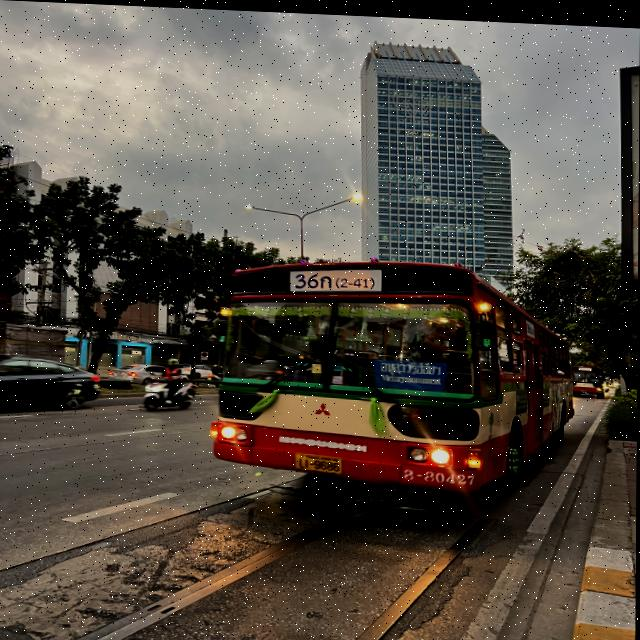BMTA-bus: (210, 257, 576, 495)
Bus Line Number: (288, 267, 383, 291)
Bus Side Number: (397, 462, 480, 488)
Destination Sign: (374, 356, 449, 387)
